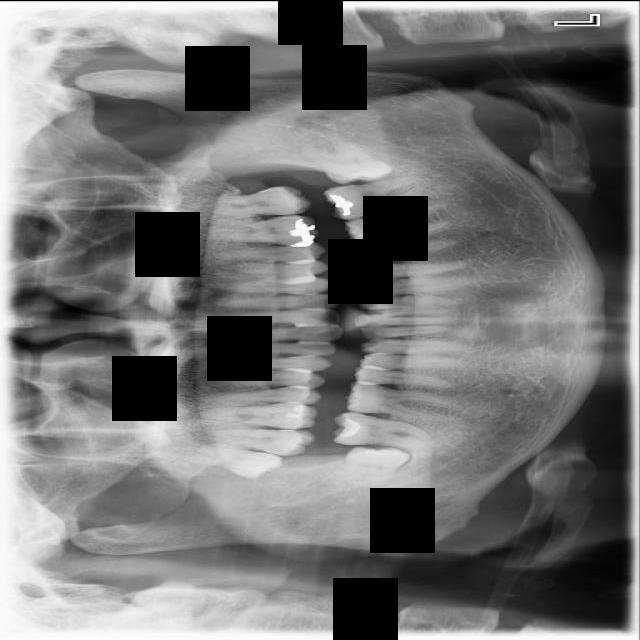3M ESPE Implant: (175, 440, 285, 482)
52: (321, 172, 378, 229), (259, 184, 312, 216), (332, 410, 377, 445), (274, 213, 318, 246), (268, 400, 317, 429)
73: (563, 22, 586, 31)
BioHorizons Implant: (201, 183, 314, 221)
Biomet 3i Implant: (304, 135, 394, 188)
Blue Sky Bio Implant: (321, 171, 431, 223)
Caries: (191, 427, 316, 456)
Implant: (332, 409, 432, 451)
Keystone Dental Implant: (345, 445, 410, 488)
